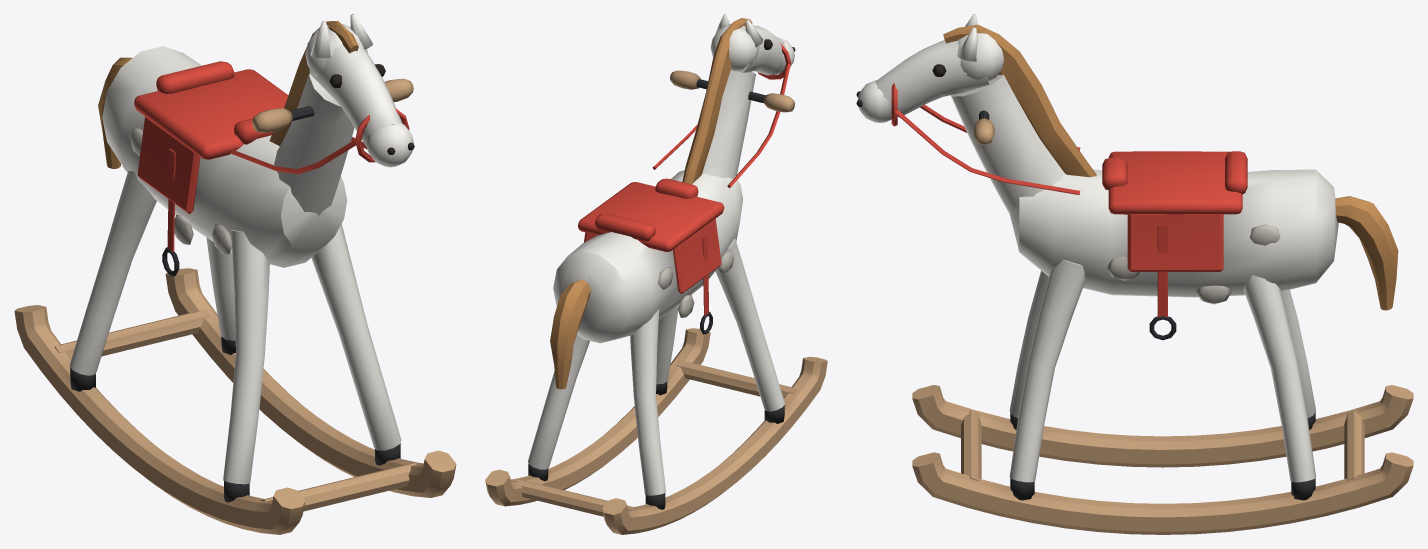
File: rockingHorse.glb
3 renders of one model, left to right at view 1: azimuth 30°, elevation 25°; view 2: azimuth 150°, elevation 25°; view 3: azimuth 270°, elevation 25°, orthographic. The views are drawn at different scales.
Visible parts, largest first — view 1: horse; view 2: horse; view 3: horse.
Part boxes in pixels (bbox=[...]): horse: bbox=[14, 14, 456, 534]; horse: bbox=[485, 14, 827, 534]; horse: bbox=[856, 14, 1413, 534].
Size of the model in its own units: 0.2891 by 0.8254 by 0.8726.
